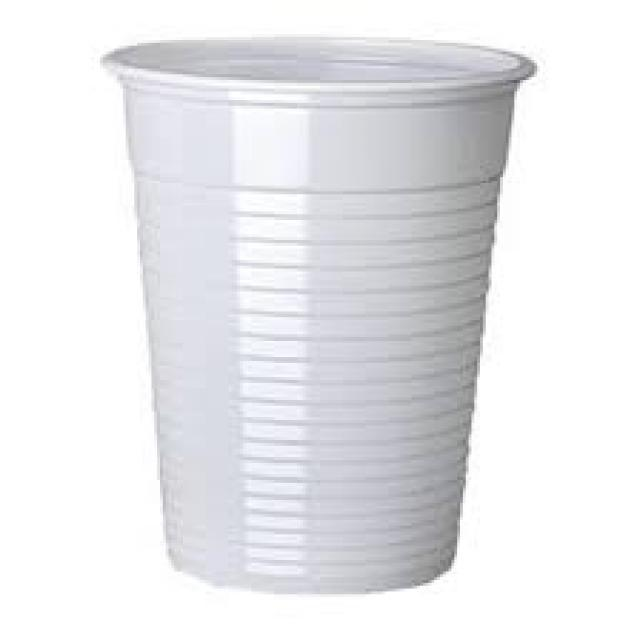Plastic: (99, 26, 537, 609)
